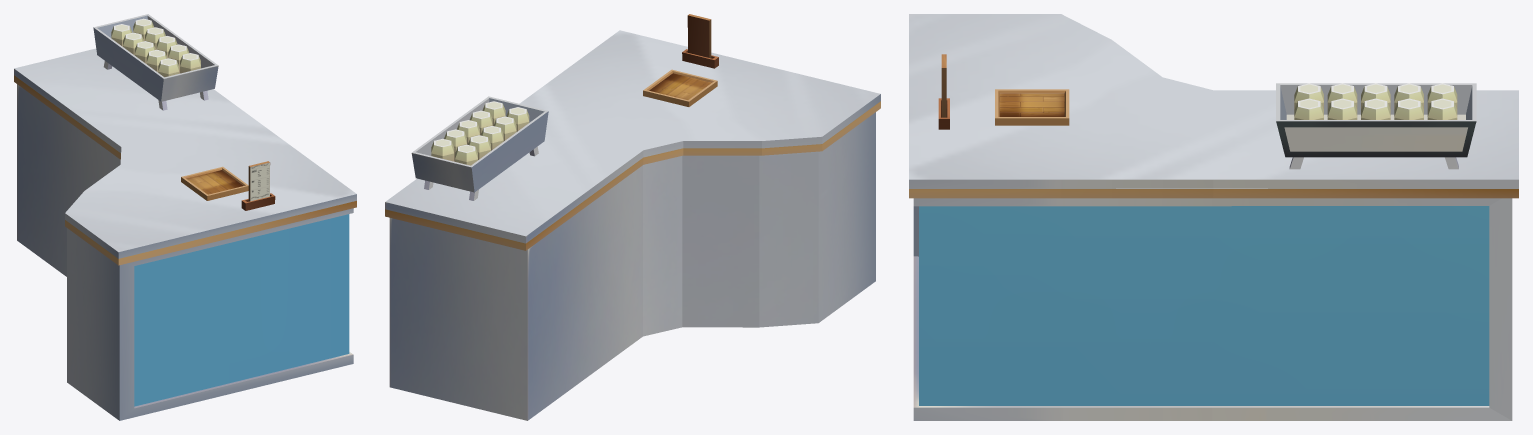
File: CBS_cafe_MainDesk.FBX
3 views of the same model, side by side, from view 1: azimuth 30°, elevation 25°; view 2: azimuth 150°, elevation 25°; view 3: azimuth 270°, elevation 25° (orthographic). The views are drawn at different scales.
Parts seen in each view (by area): view 1: CBS_cafe_MainDesk, CBS_cafe_MainDesk_galss; view 2: CBS_cafe_MainDesk; view 3: CBS_cafe_MainDesk_galss, CBS_cafe_MainDesk.
Part boxes in pixels (box(x1,y1,x2,y2)): CBS_cafe_MainDesk: box(14, 14, 356, 420); CBS_cafe_MainDesk_galss: box(134, 214, 349, 406); CBS_cafe_MainDesk: box(385, 14, 880, 420); CBS_cafe_MainDesk_galss: box(919, 206, 1489, 405); CBS_cafe_MainDesk: box(909, 14, 1518, 420).
Bounding box in the file's own units: 104 × 88.16 × 161.
